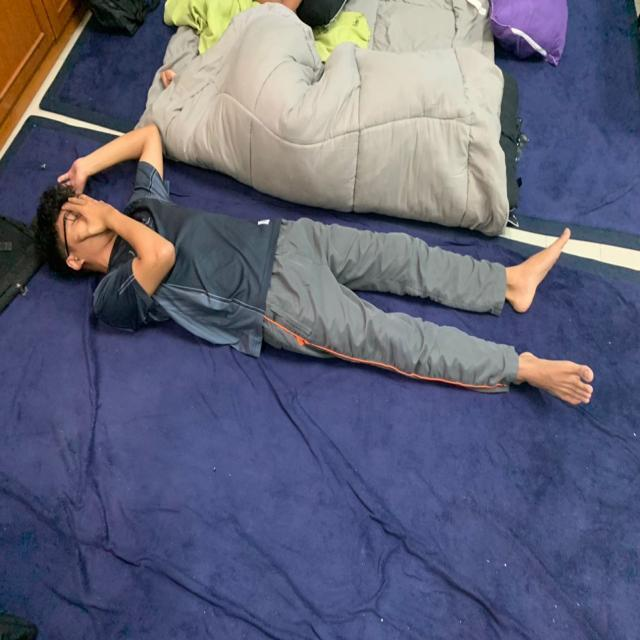fall: (34, 120, 606, 398)
